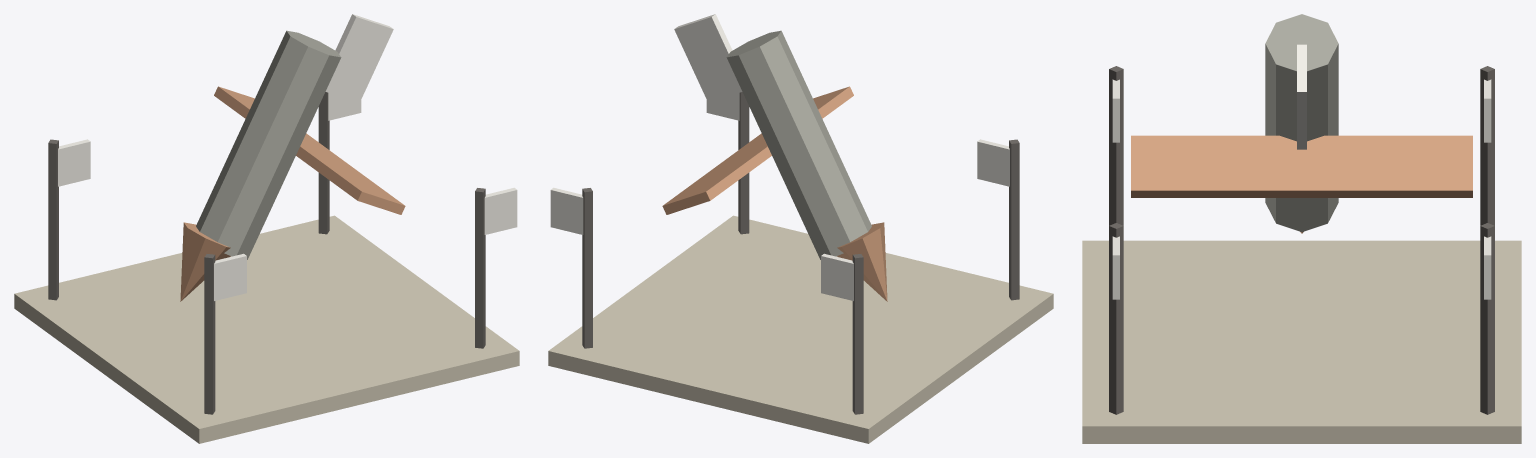
File: temple.glb
3 views of the same model, side by side, from view 1: azimuth 30°, elevation 25°; view 2: azimuth 150°, elevation 25°; view 3: azimuth 270°, elevation 25° (orthographic). The views are drawn at different scales.
Visible parts, largest first — view 1: scrap_temple; view 2: scrap_temple; view 3: scrap_temple.
Boxes of the visible parts, x1,y1,x2,y2 form: scrap_temple: (14, 14, 519, 443); scrap_temple: (548, 14, 1053, 443); scrap_temple: (1082, 14, 1521, 443).
Bounding box in the file's own units: 0.93 × 0.8065 × 0.9.
